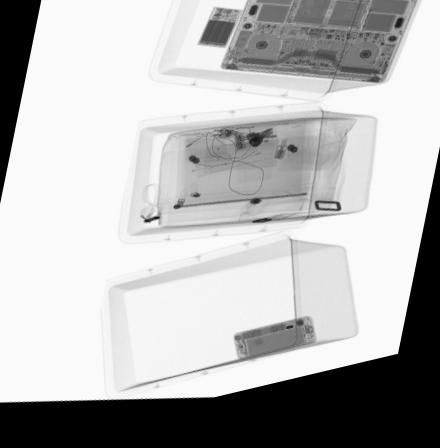Powerbank: (196, 15, 245, 58)
